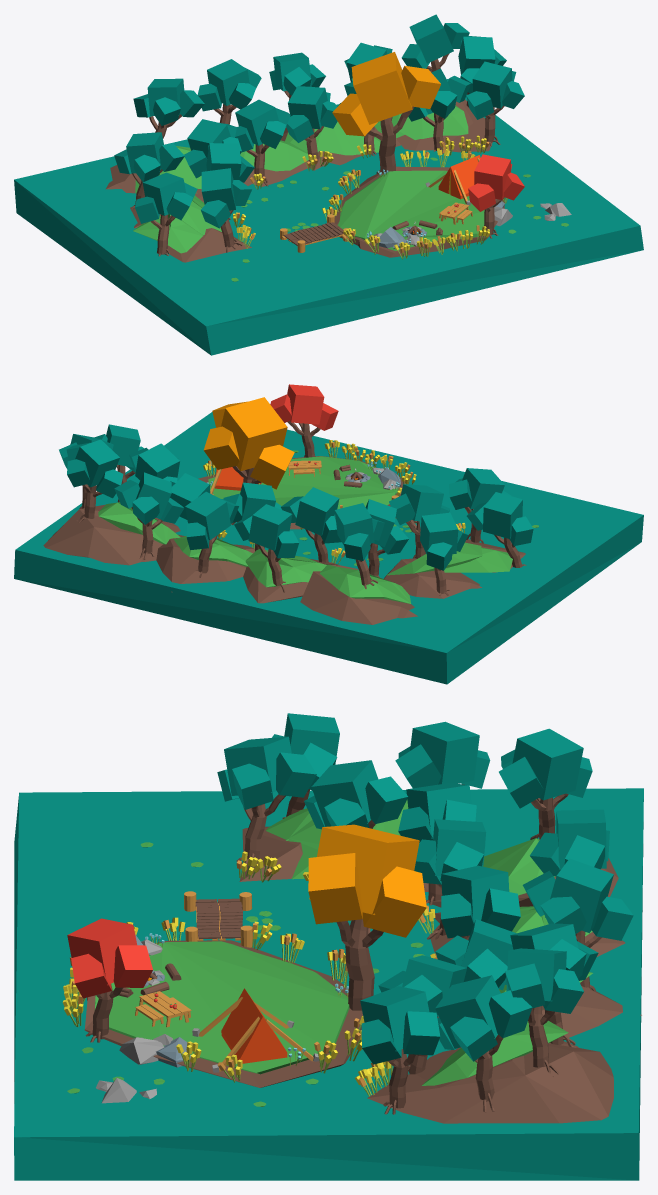
File: SwampIslandv1.glb
The picture shows the model from 3 angles, top to bottom: view 1: azimuth 30°, elevation 25°; view 2: azimuth 150°, elevation 25°; view 3: azimuth 270°, elevation 25°; orthographic projection. The views are drawn at different scales.
Visible parts, largest first — view 1: group2136008734, group1996960513, group151683662, group1472950353, group1052670248, group760265186, group2099061238, group1420377134, group684750817, group1774111551, group1327080236, group1461848927 (+20 smaller); view 2: group2136008734, group151683662, group1297782163, group1996960513, group880033640, group1004619122, group1776715167, group760265186, group1472950353, group1774111551, group761897651, group2099061238 (+20 smaller); view 3: group2136008734, group1996960513, group151683662, group1297782163, group912524470, group1327080236, group684750817, group1052670248, group1774111551, group761897651, group1458085261, group1004619122 (+21 smaller).
Part boxes in pixels (x1,y1,x2,y2): group2136008734: (14, 79, 643, 355); group1996960513: (337, 170, 484, 250); group151683662: (332, 52, 440, 173); group1472950353: (135, 172, 197, 256); group1052670248: (466, 61, 524, 146); group760265186: (197, 59, 261, 124); group2099061238: (235, 99, 290, 186); group1420377134: (114, 132, 184, 210); group684750817: (133, 78, 204, 138); group1774111551: (468, 154, 524, 238); group1327080236: (201, 168, 251, 252); group1461848927: (286, 86, 337, 166); group2136008734: (14, 412, 643, 684); group151683662: (203, 397, 294, 524); group1297782163: (43, 504, 180, 565); group1996960513: (208, 456, 400, 509); group880033640: (300, 571, 417, 624); group1004619122: (66, 439, 123, 522); group1776715167: (114, 472, 184, 559); group760265186: (234, 504, 298, 592); group1472950353: (466, 492, 533, 567); group1774111551: (270, 384, 338, 457); group761897651: (185, 491, 238, 577); group2099061238: (281, 487, 341, 563); group2136008734: (14, 788, 643, 1180); group1996960513: (94, 941, 349, 1074); group151683662: (308, 824, 426, 1010); group1297782163: (367, 1041, 613, 1123); group912524470: (435, 975, 532, 1112); group1327080236: (217, 736, 316, 867); group684750817: (499, 728, 592, 839); group1052670248: (360, 986, 440, 1114); group1774111551: (67, 918, 152, 1042); group761897651: (522, 858, 633, 991); group1458085261: (304, 760, 408, 829); group1004619122: (505, 948, 583, 1076).
Size of the model in its own units: 4.31 by 1.43 by 3.32.
